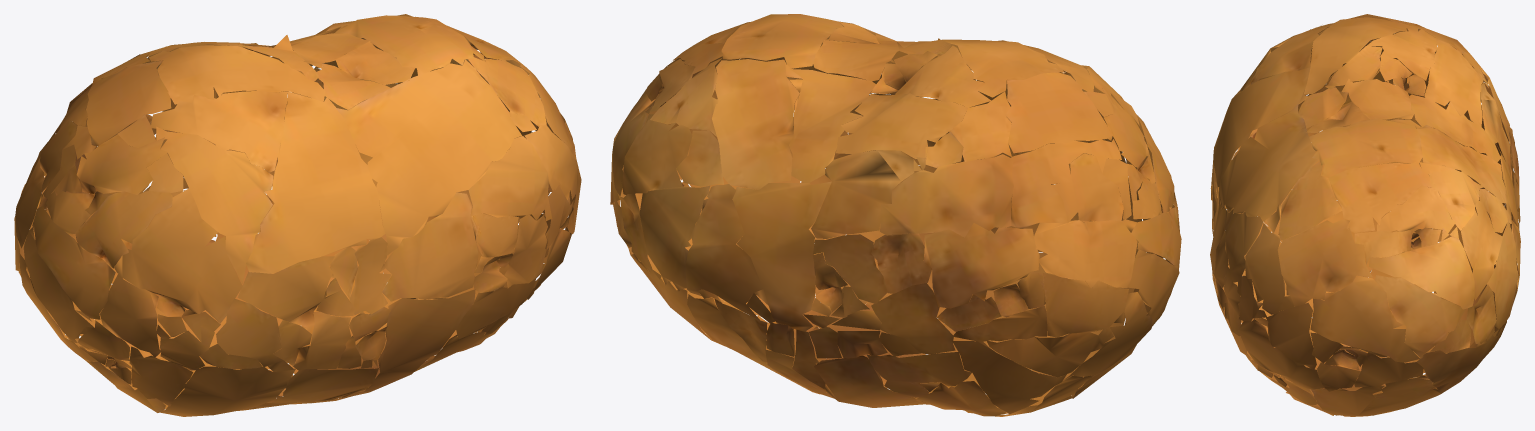
File: potato.glb
3 renders of one model, left to right at view 1: azimuth 30°, elevation 25°; view 2: azimuth 150°, elevation 25°; view 3: azimuth 270°, elevation 25°, orthographic. The views are drawn at different scales.
Parts seen in each view (by area): view 1: potato; view 2: potato; view 3: potato.
Part boxes in pixels (left/top/right/bottom): potato: left=14, top=14, right=581, bottom=416; potato: left=610, top=14, right=1181, bottom=416; potato: left=1210, top=14, right=1520, bottom=416.
Bounding box in the file's own units: 0.1978 × 0.1281 × 0.1182.
Materials: 1 (1 with a texture image).
